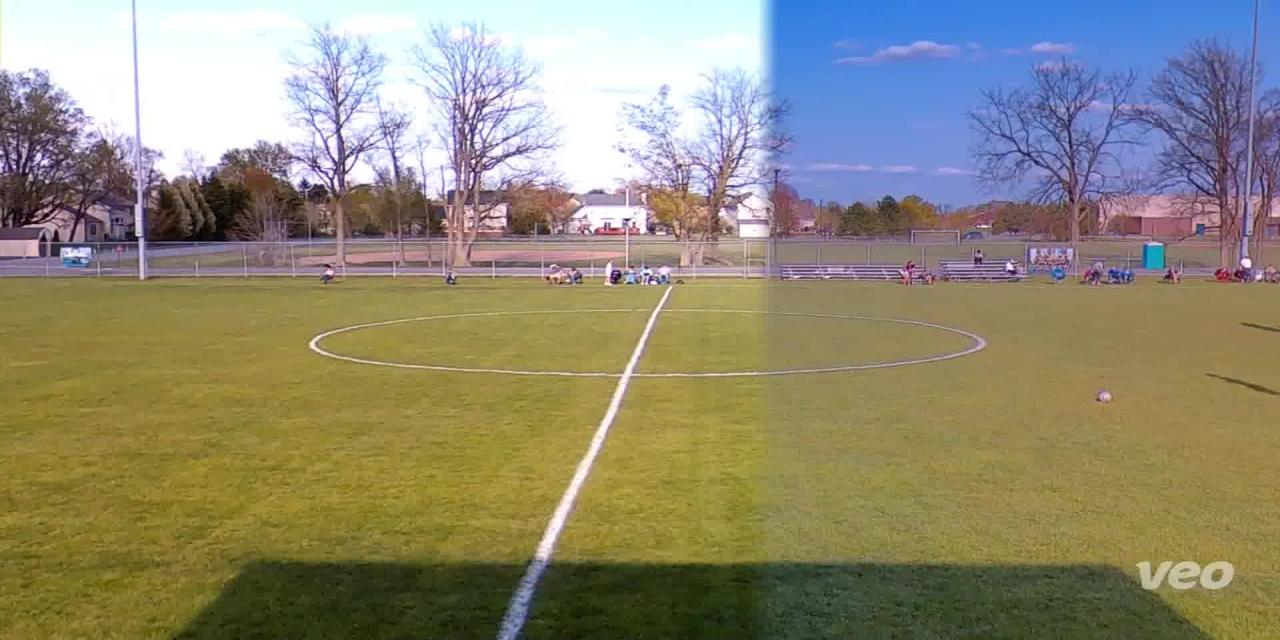sports ball: (1090, 388, 1112, 408)
